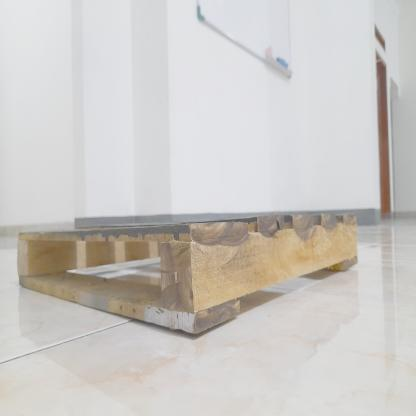Wooden-Pallet: (13, 210, 362, 338)
